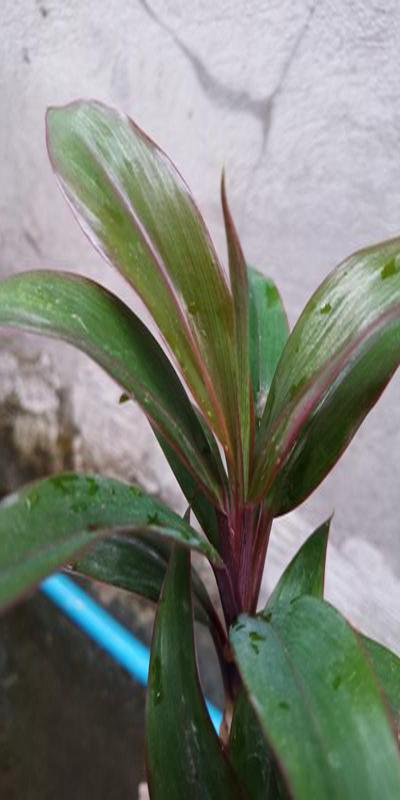Baston de san jose: (45, 104, 392, 784)
